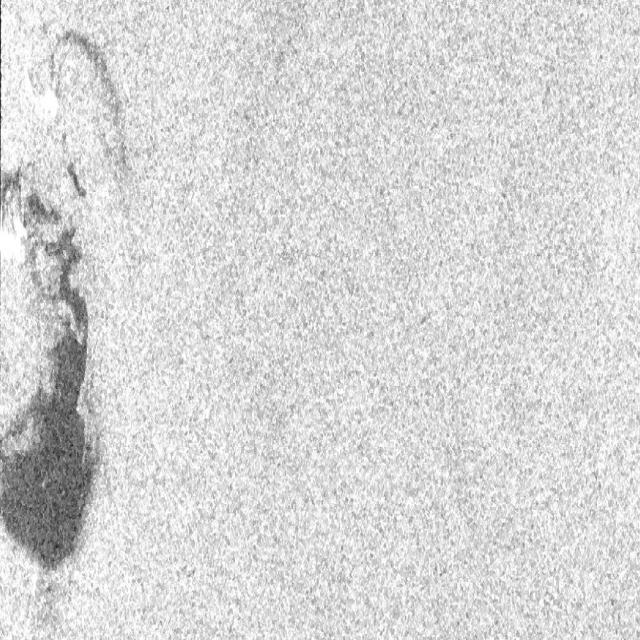oil-spill: (1, 344, 100, 579), (2, 167, 95, 340), (53, 28, 132, 154), (54, 135, 92, 206)
ship: (20, 69, 58, 130), (2, 210, 28, 270)
